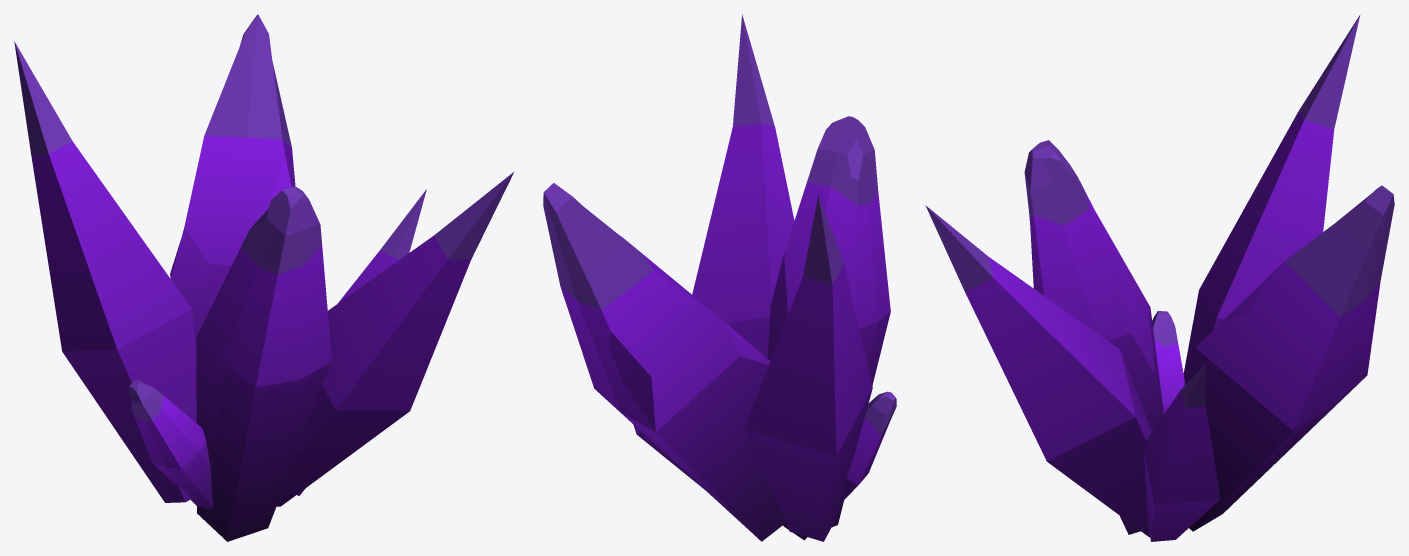
The model's file is crystalchunk02.fbx.
3 views of the same model, side by side, from view 1: azimuth 30°, elevation 25°; view 2: azimuth 150°, elevation 25°; view 3: azimuth 270°, elevation 25° (orthographic). The views are drawn at different scales.
Visible parts, largest first — view 1: Cube.004; view 2: Cube.004; view 3: Cube.004.
Part boxes in pixels (x1,y1,x2,y2): Cube.004: (14,14,514,541); Cube.004: (543,14,896,541); Cube.004: (925,15,1394,541).
Size of the model in its own units: 93.64 by 117 by 110.
